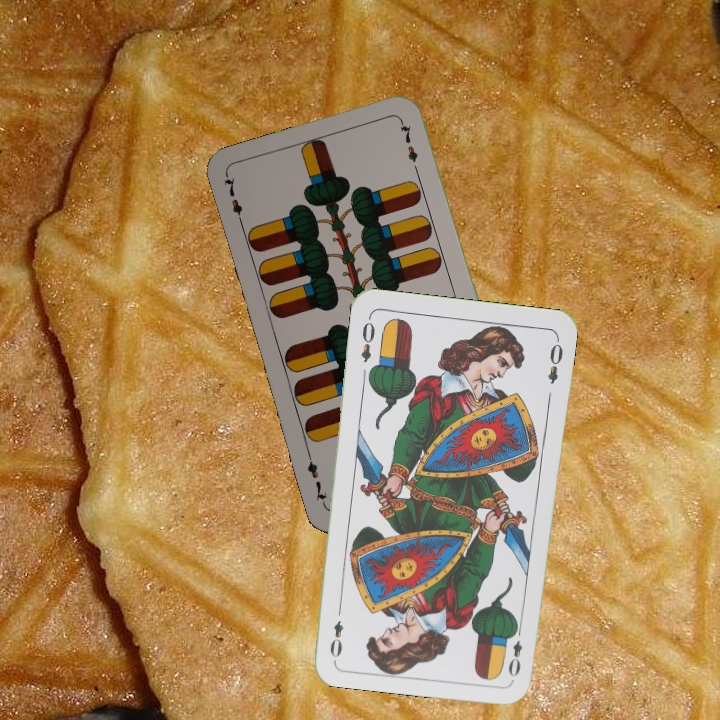E7: (220, 172, 247, 230)
EO: (504, 622, 525, 679), (356, 313, 378, 365)
